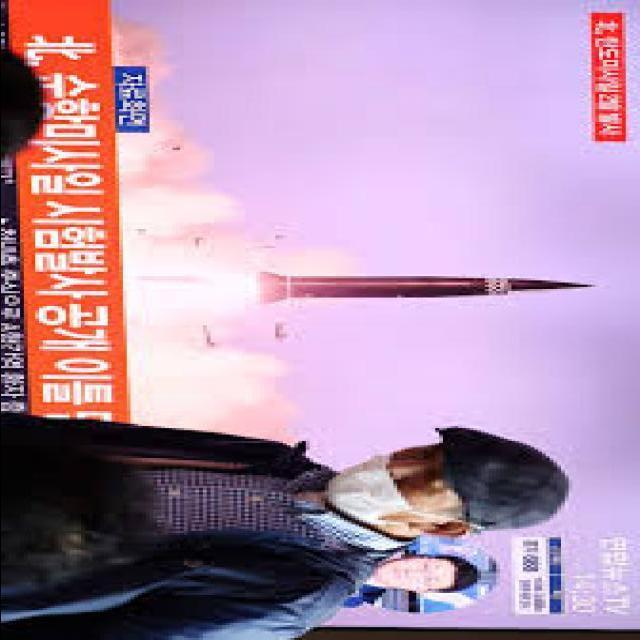Missile: (241, 271, 593, 310)
